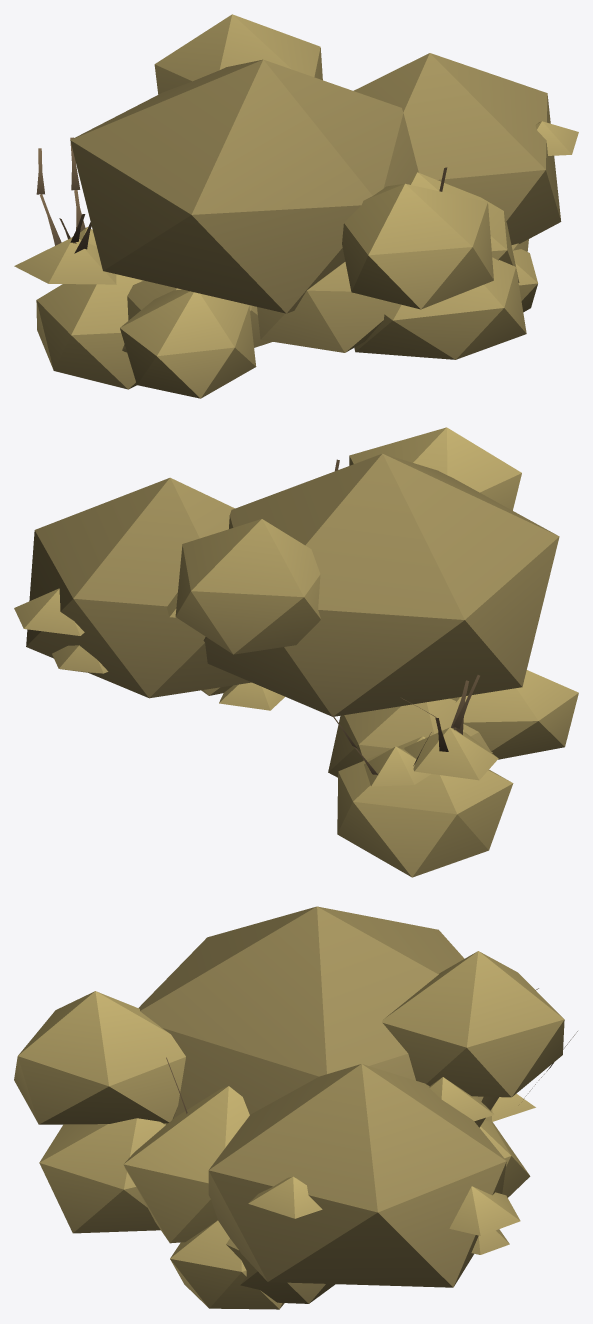
The model's file is env_bush_dry_01.glb.
3 renders of one model, top to bottom at view 1: azimuth 30°, elevation 25°; view 2: azimuth 150°, elevation 25°; view 3: azimuth 270°, elevation 25°, orthographic. The views are drawn at different scales.
Parts seen in each view (by area): view 1: bush_dry_01; view 2: bush_dry_01; view 3: bush_dry_01.
Part boxes in pixels (box(x1,y1,x2,y2)): bush_dry_01: box(14, 14, 578, 398); bush_dry_01: box(14, 427, 578, 877); bush_dry_01: box(14, 906, 577, 1309).
Bounding box in the file's own units: 0.471 × 0.2896 × 0.4396.
